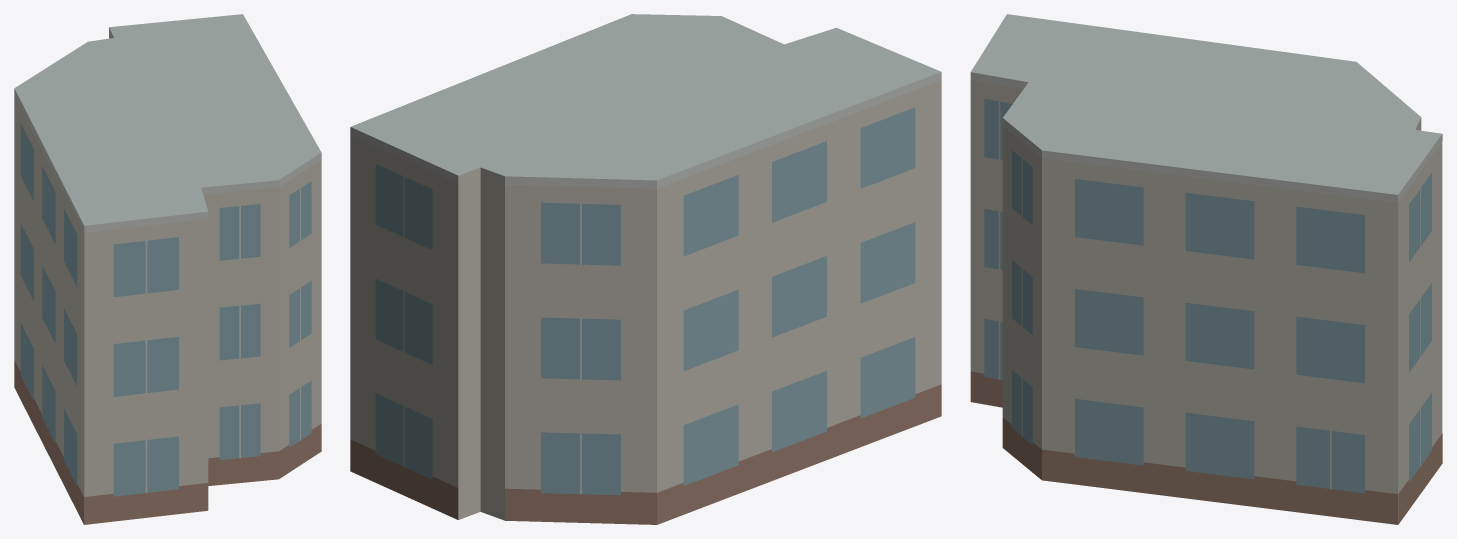
Rendered from survey-upis-32997683.glb.
The picture shows the model from 3 angles, left to right: view 1: azimuth 30°, elevation 25°; view 2: azimuth 150°, elevation 25°; view 3: azimuth 270°, elevation 25°; orthographic projection. The views are drawn at different scales.
Visible parts, largest first — view 1: survey-upis-32997683.tmp; view 2: survey-upis-32997683.tmp; view 3: survey-upis-32997683.tmp.
Boxes of the visible parts, left/top/right/bottom form: survey-upis-32997683.tmp: left=14, top=14, right=321, bottom=524; survey-upis-32997683.tmp: left=350, top=14, right=941, bottom=524; survey-upis-32997683.tmp: left=970, top=14, right=1442, bottom=524.
Size of the model in its own units: 12.01 by 10.2 by 13.23.
